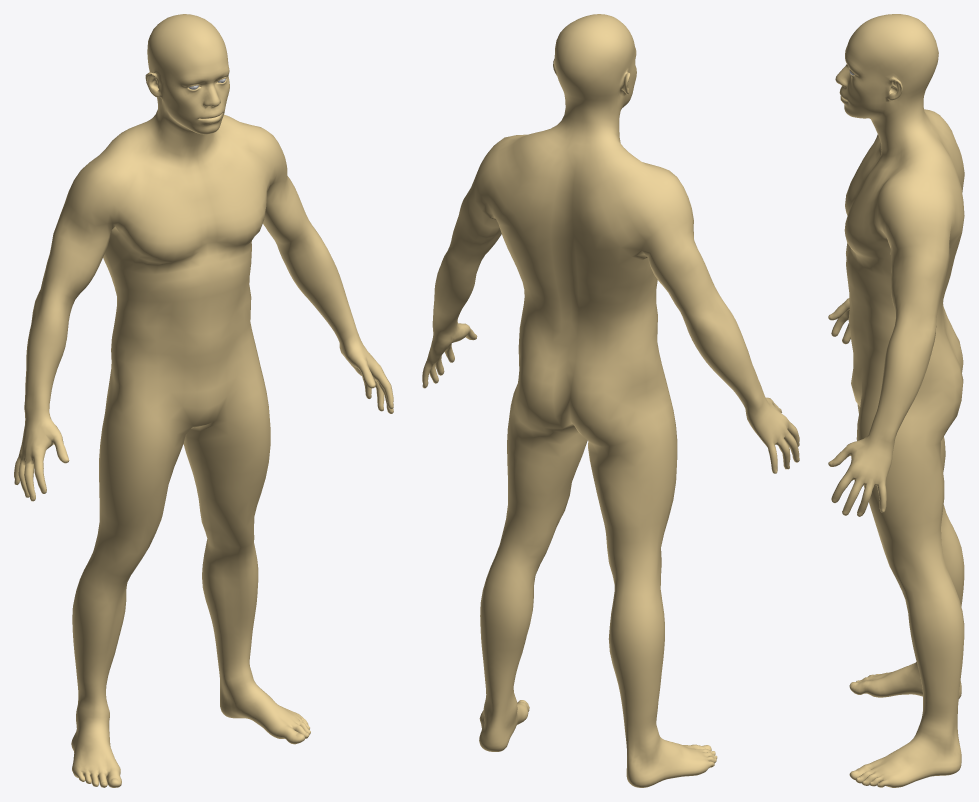
The model's file is humanfigure.glb.
3 renders of one model, left to right at view 1: azimuth 30°, elevation 25°; view 2: azimuth 150°, elevation 25°; view 3: azimuth 270°, elevation 25°, orthographic.
Parts seen in each view (by area): view 1: GEO-body_male_realistic; view 2: GEO-body_male_realistic; view 3: GEO-body_male_realistic.
Part boxes in pixels (x1,y1,x2,y2): GEO-body_male_realistic: (14, 14, 393, 787); GEO-body_male_realistic: (422, 14, 799, 787); GEO-body_male_realistic: (828, 14, 964, 787).
Bounding box in the file's own units: 0.8807 × 1.69 × 0.2904.
